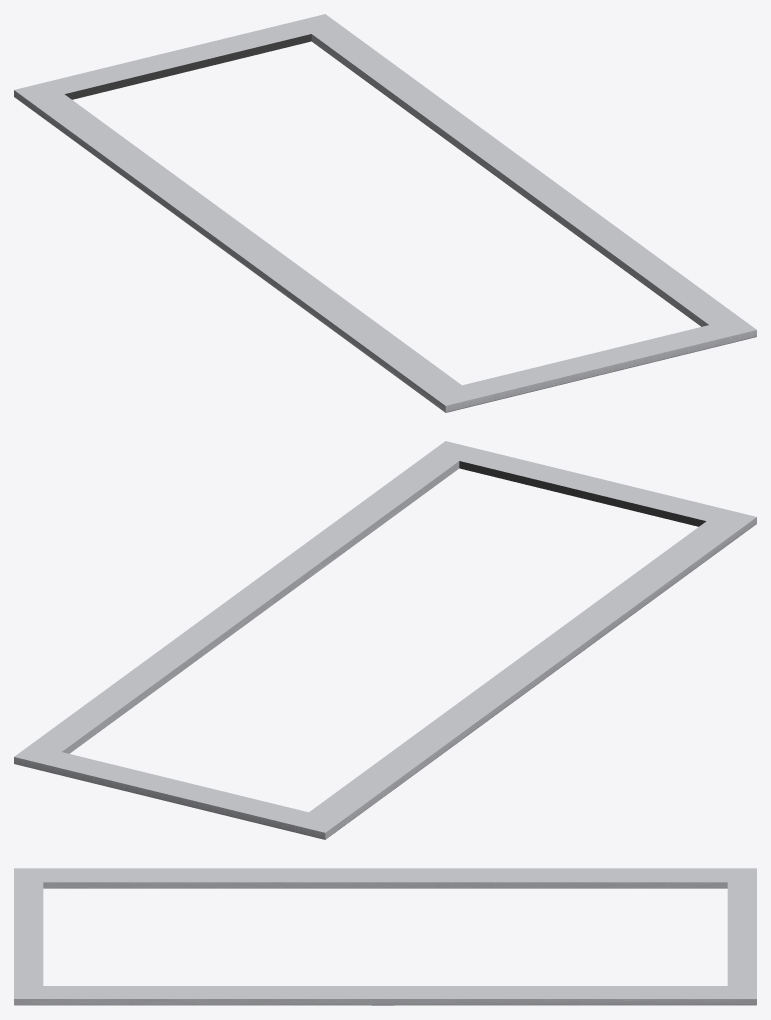
File: SM_Window_Left.obj
The picture shows the model from 3 angles, top to bottom: view 1: azimuth 30°, elevation 25°; view 2: azimuth 150°, elevation 25°; view 3: azimuth 270°, elevation 25°; orthographic projection. The views are drawn at different scales.
Visible parts, largest first — view 1: SM_Window_Left; view 2: SM_Window_Left; view 3: SM_Window_Left.
Part boxes in pixels (box(x1,y1,x2,y2)): SM_Window_Left: box(14, 14, 756, 412); SM_Window_Left: box(14, 441, 756, 839); SM_Window_Left: box(14, 868, 756, 1005).
Size of the model in its own units: 0.8641 by 0.0285 by 2.07.
